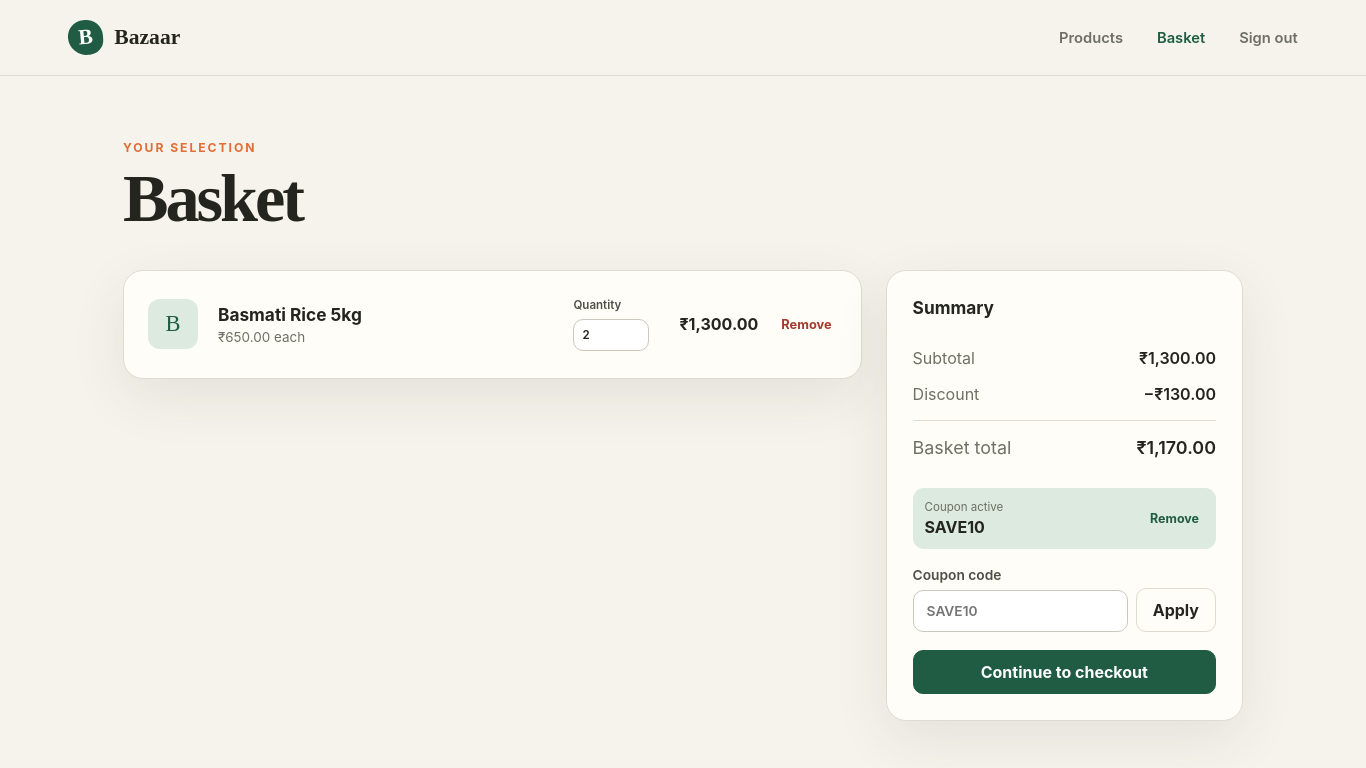
commerce web › offers to replace an already active coupon
This screenshot has width=1366, height=768.
Type "NEW20" into the field labelled "Coupon code" at (1020, 611), box [913,590,1128,632]
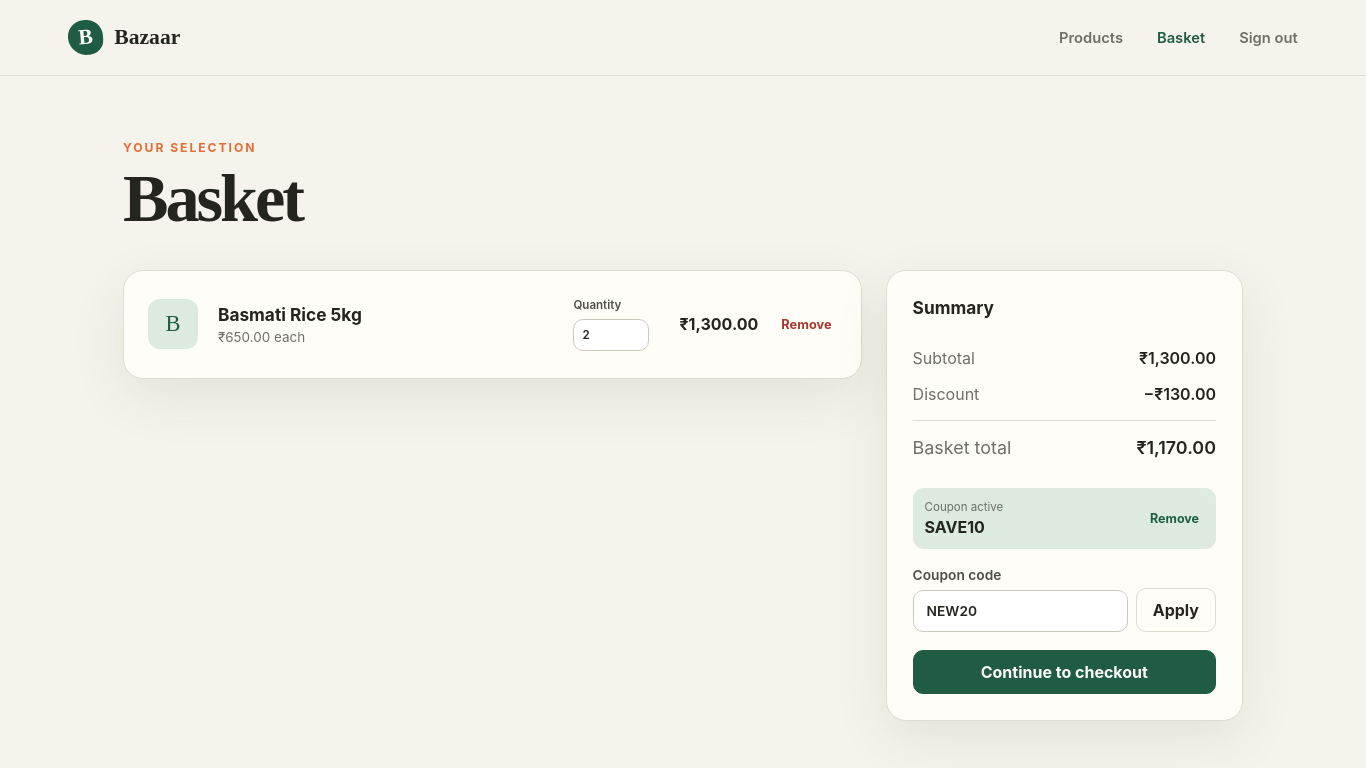
Click the button "Apply" at (1176, 610), box [1136,588,1216,632]
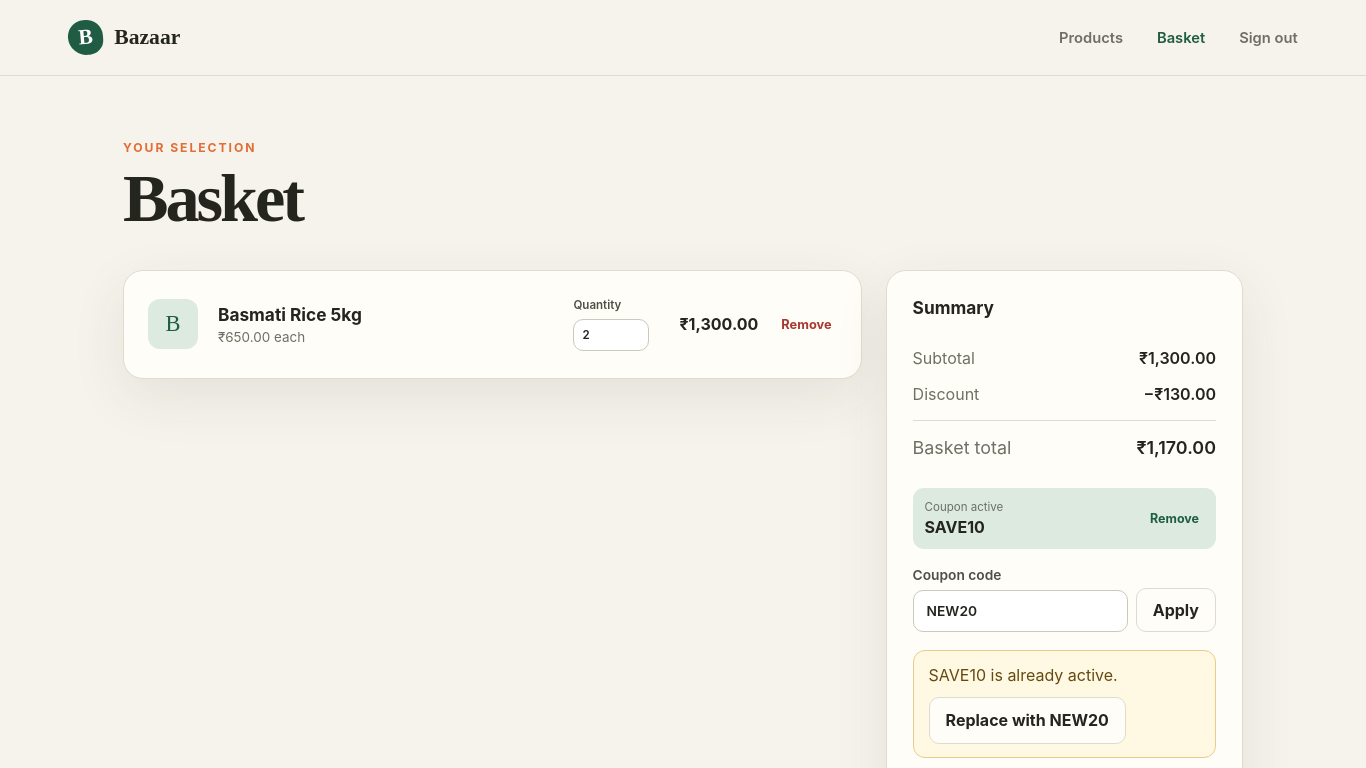
Expected: the message shows "SAVE10 is already active.", [913,650,1216,758]
Expected: the button "Replace with NEW20" is shown, [929,697,1126,744]
